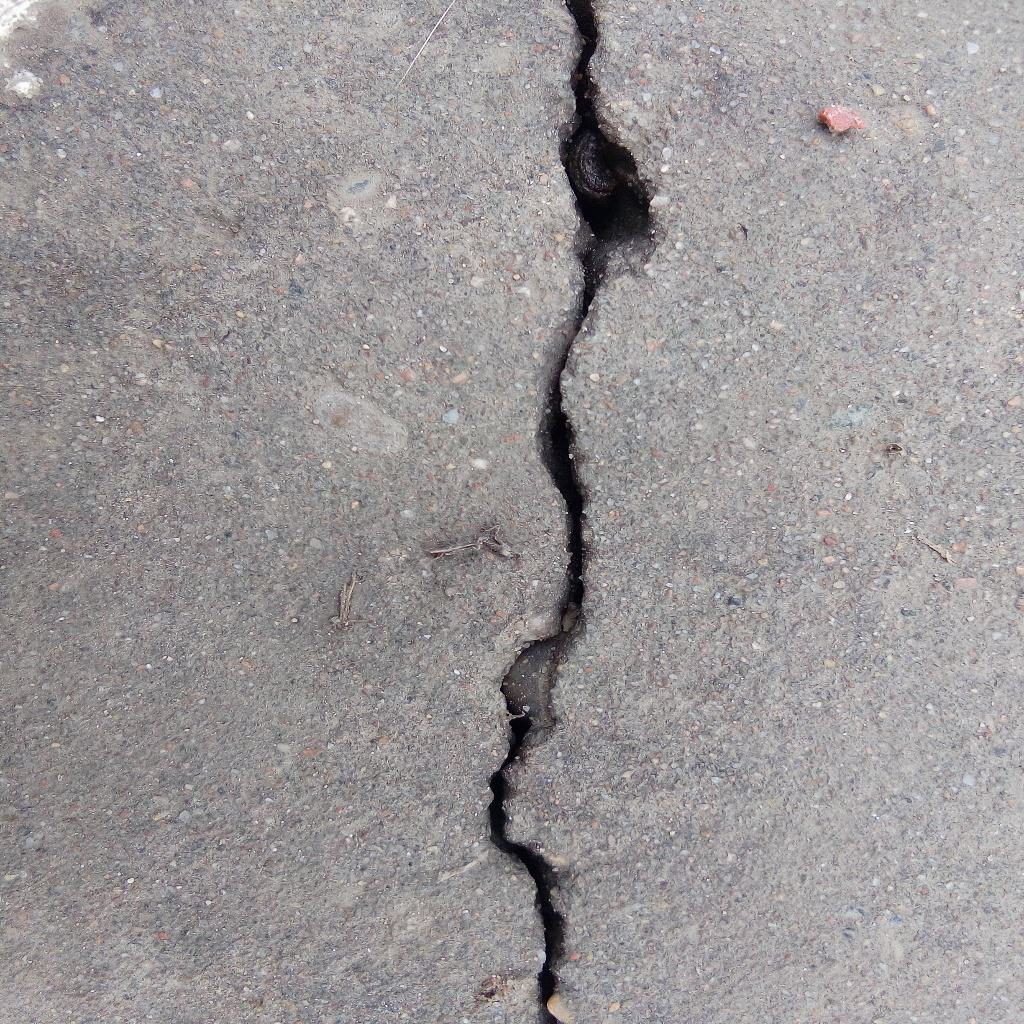Crack: (486, 1, 653, 1024)
